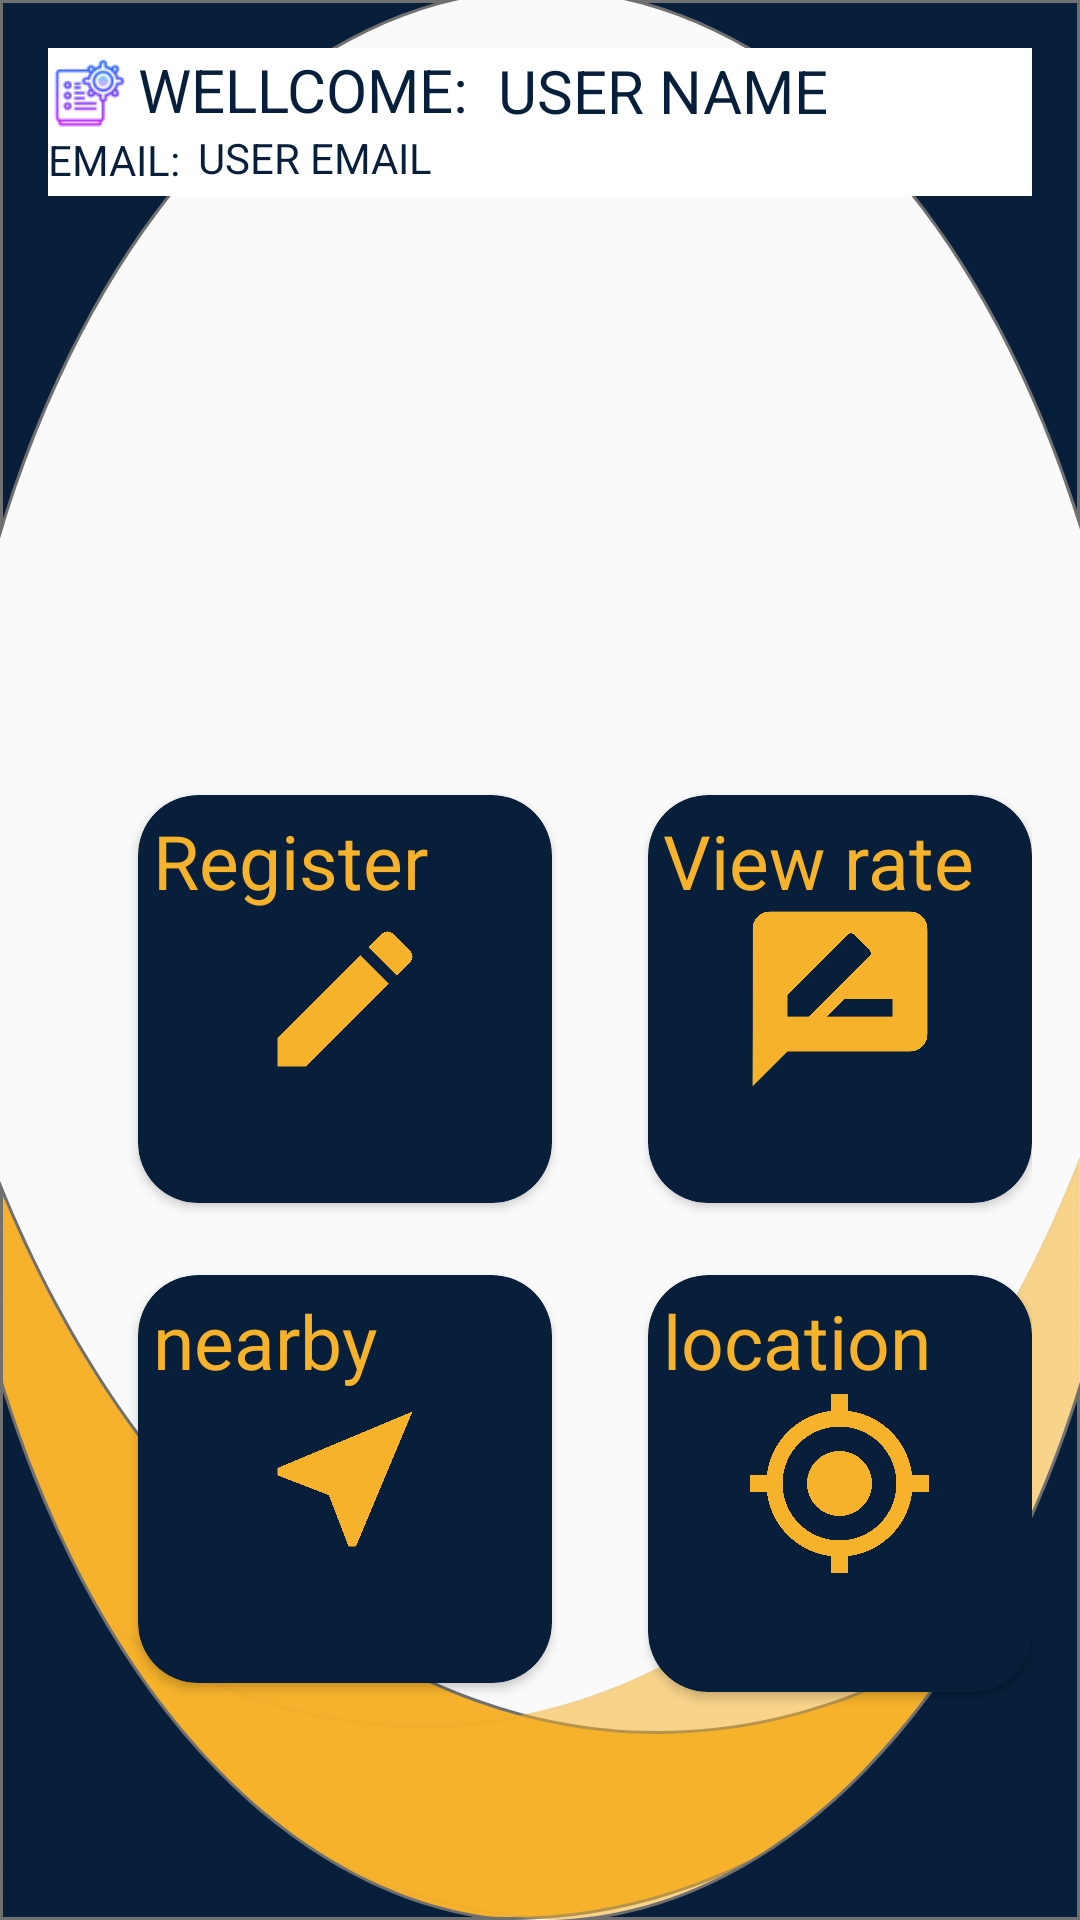

Named icons in this screenshot (1080 x 1920) and their bounding boxes, (x1, y1, x2, y2):
create: (277, 931, 413, 1067)
near me: (277, 1411, 413, 1547)
service: (55, 59, 125, 127)
